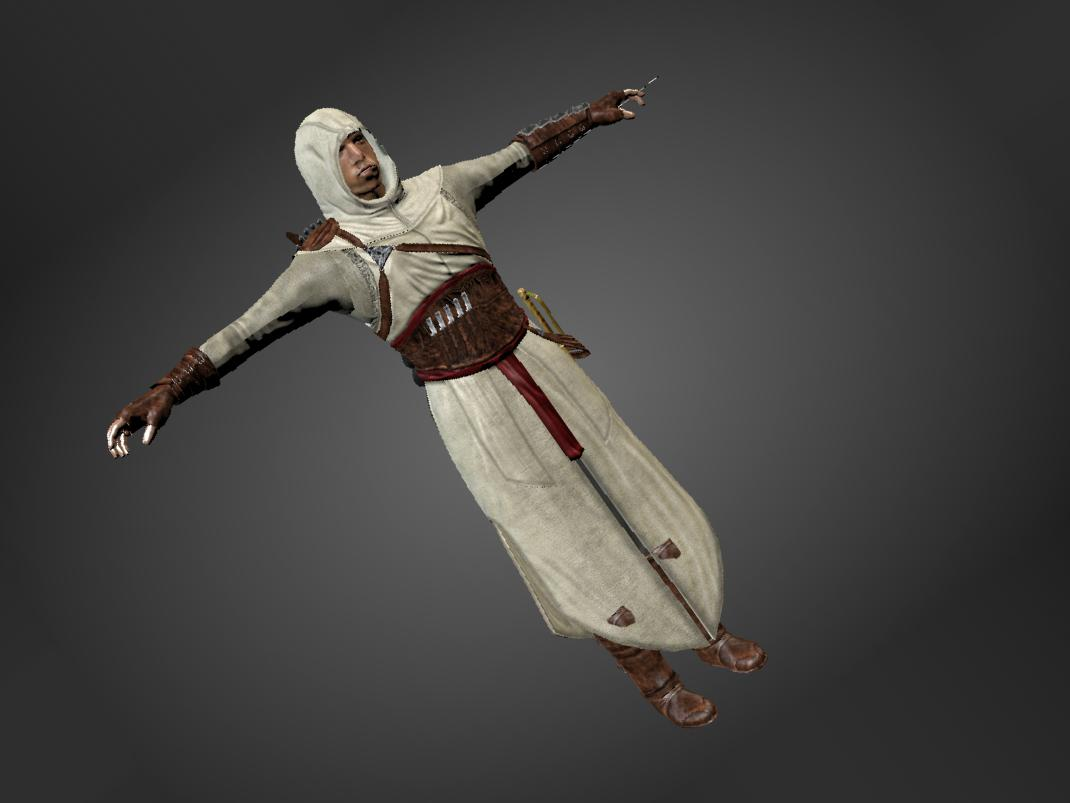clip: (604, 597, 637, 630), (653, 538, 690, 564)
